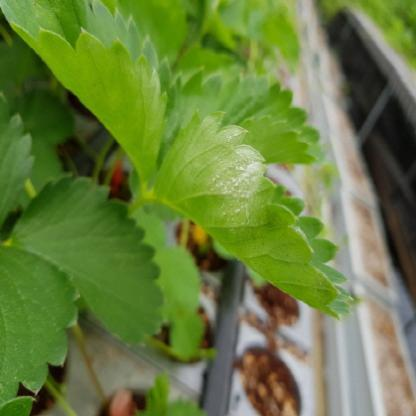Strawberry_Powdery_Mildew_Leaf: (144, 108, 352, 320)
